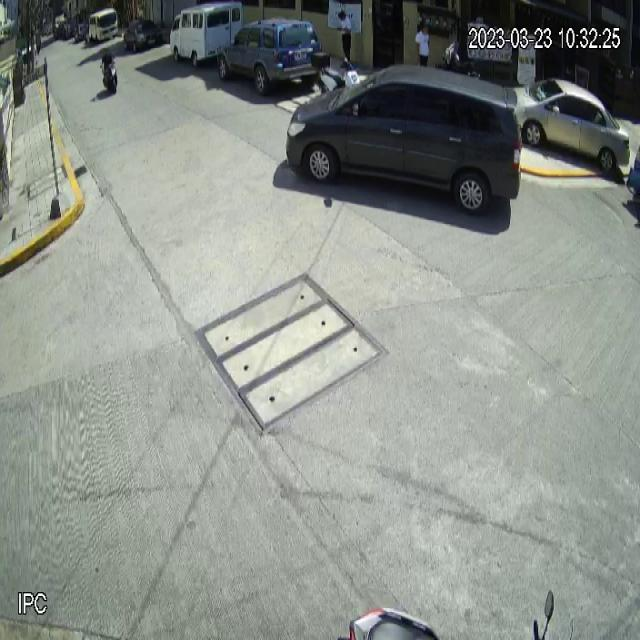Car: (285, 59, 523, 222), (521, 77, 631, 172), (216, 14, 322, 97)
Van: (169, 0, 243, 68)
